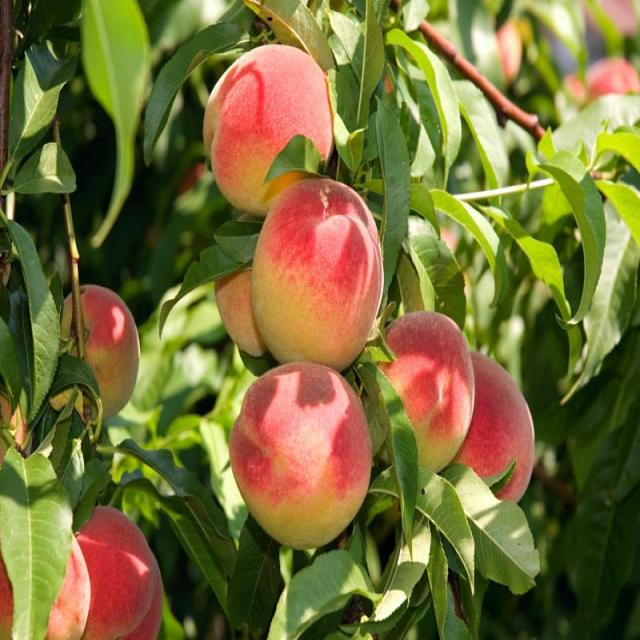Peach: (77, 0, 530, 640), (530, 141, 639, 640), (0, 0, 71, 640)
